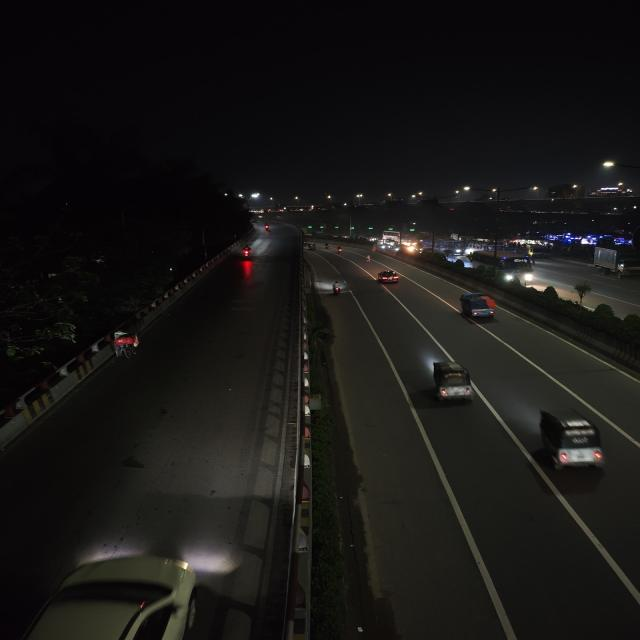bicycle: (107, 330, 142, 361)
bus: (472, 248, 536, 287), (435, 240, 466, 255)
car: (2, 544, 219, 640), (376, 268, 400, 284)
cng: (530, 404, 614, 477), (424, 359, 478, 407), (305, 241, 316, 251)
motorcycle: (239, 244, 255, 260), (330, 279, 344, 297), (262, 224, 273, 235), (362, 252, 374, 262), (334, 245, 345, 254), (322, 241, 330, 249)
pickup_van: (458, 289, 499, 321)
truck: (590, 245, 640, 278)
